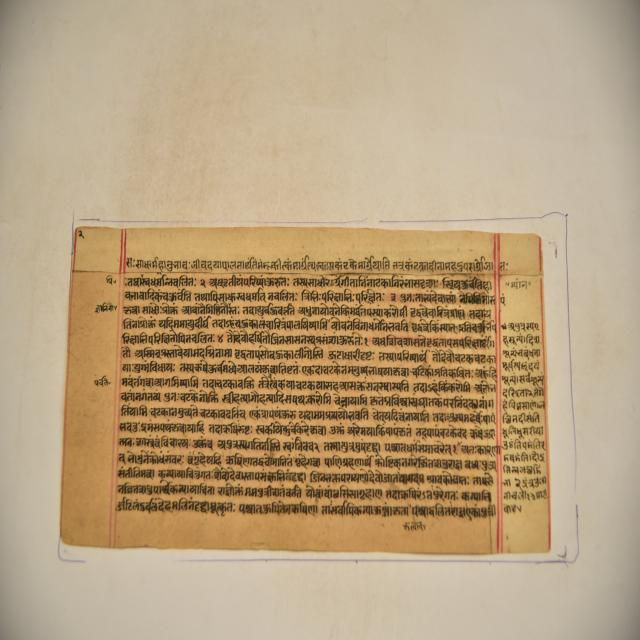text_paragraph: (60, 222, 551, 546)
